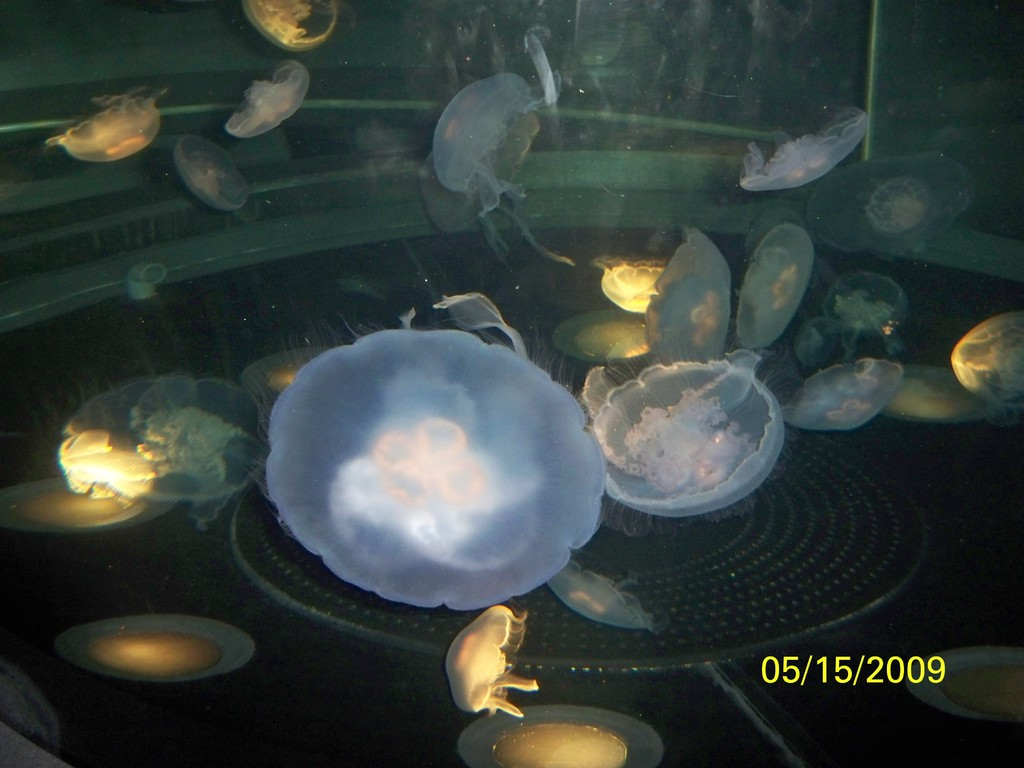Jellyfish: (0, 223, 1023, 767), (426, 63, 577, 272), (805, 150, 983, 268), (736, 101, 867, 190), (50, 88, 160, 147), (171, 138, 254, 213), (229, 65, 309, 140), (240, 0, 341, 58)
